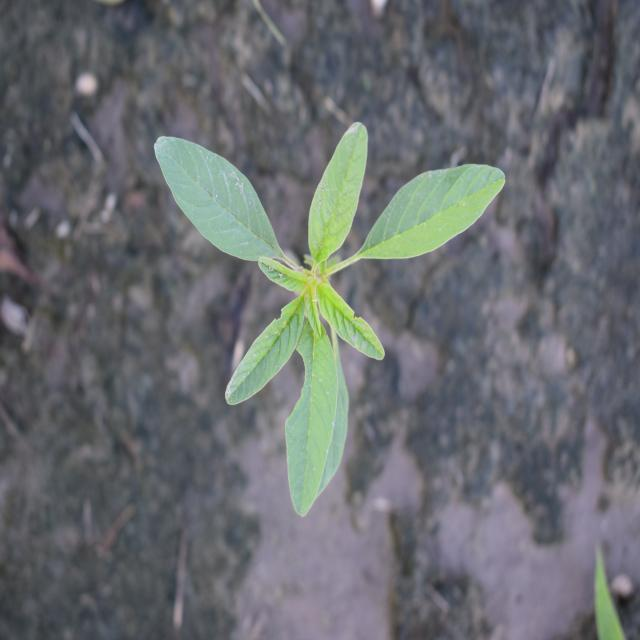Waterhemp: (152, 118, 508, 519)
